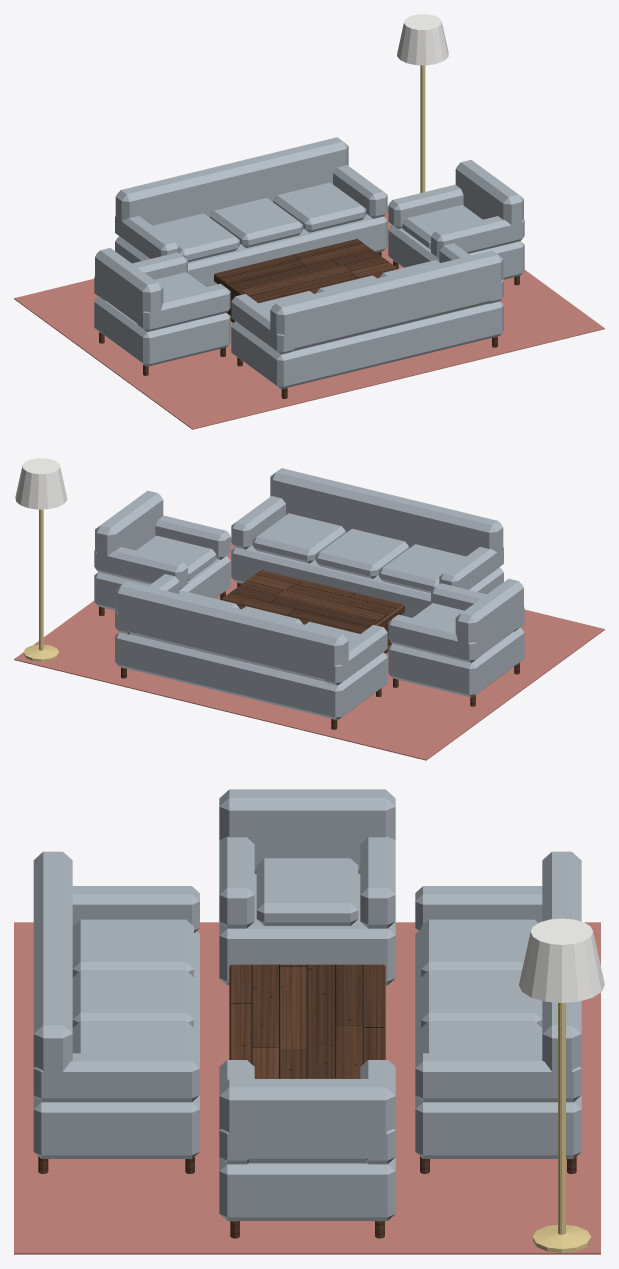
The model's file is lounge.glb.
The picture shows the model from 3 angles, top to bottom: view 1: azimuth 30°, elevation 25°; view 2: azimuth 150°, elevation 25°; view 3: azimuth 270°, elevation 25°; orthographic projection. The views are drawn at different scales.
Visible parts, largest first — view 1: lounge_fabric, lounge_rug, lounge_dkwood, lounge_linen, lounge_gold; view 2: lounge_fabric, lounge_rug, lounge_dkwood, lounge_linen, lounge_gold; view 3: lounge_fabric, lounge_rug, lounge_dkwood, lounge_linen, lounge_gold.
Part boxes in pixels (x1=…): lounge_fabric: x1=94, y1=137, x2=524, y2=389; lounge_rug: x1=14, y1=207, x2=604, y2=429; lounge_dkwood: x1=99, y1=239, x2=519, y2=398; lounge_linen: x1=397, y1=14, x2=448, y2=65; lounge_gold: x1=420, y1=65, x2=425, y2=192; lounge_fabric: x1=94, y1=468, x2=524, y2=719; lounge_rug: x1=14, y1=538, x2=604, y2=760; lounge_dkwood: x1=99, y1=569, x2=519, y2=729; lounge_linen: x1=15, y1=458, x2=67, y2=509; lounge_gold: x1=23, y1=509, x2=59, y2=661; lounge_fabric: x1=33, y1=789, x2=581, y2=1220; lounge_rug: x1=14, y1=922, x2=600, y2=1254; lounge_dkwood: x1=38, y1=964, x2=576, y2=1238; lounge_linen: x1=519, y1=918, x2=604, y2=1002; lounge_gold: x1=532, y1=1003, x2=591, y2=1252.
Bounding box in the file's own units: 4.07 × 1.75 × 3.02.
5 materials, 1 textured.
